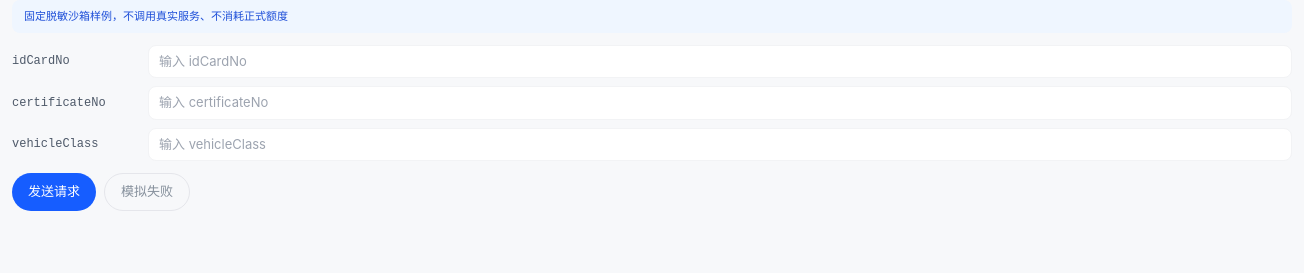
Test case: ApiDetail sandbox › rejects missing required parameters
The image size is (1304, 273).
Click the button with test id "sandbox-send" at (54, 192), box [12,173,96,210]
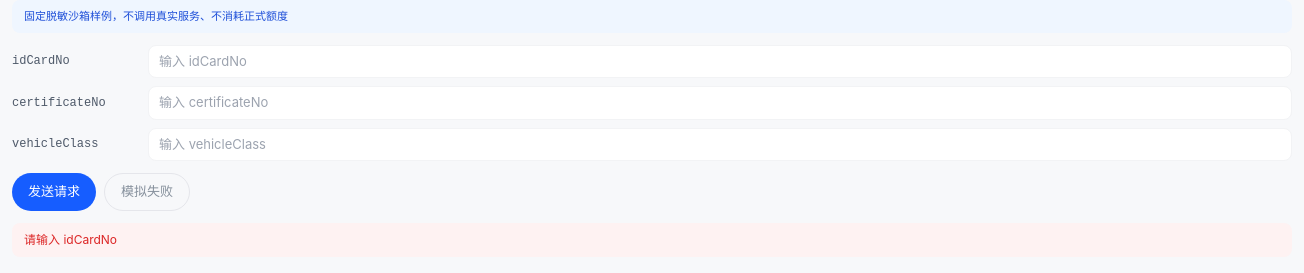
Expected: the text "请输入 idCardNo" is shown, [12,222,1292,256]
